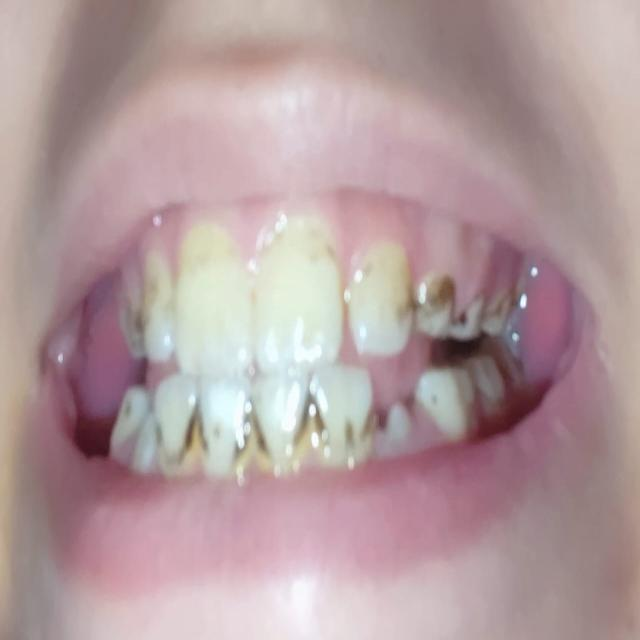tooth: (257, 221, 343, 370), (177, 224, 253, 371), (343, 233, 419, 355), (311, 371, 377, 469), (198, 377, 256, 472), (154, 376, 200, 468), (256, 374, 306, 454)
